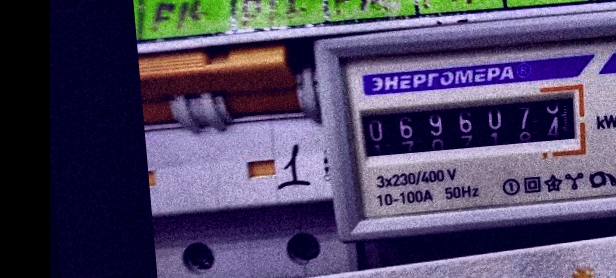0: (367, 116, 386, 142), (486, 104, 503, 130)
4: (544, 114, 562, 139)
6: (397, 114, 416, 139), (456, 108, 475, 133)
7: (516, 103, 533, 131)
9: (426, 111, 444, 137)
screen: (346, 76, 593, 171)
